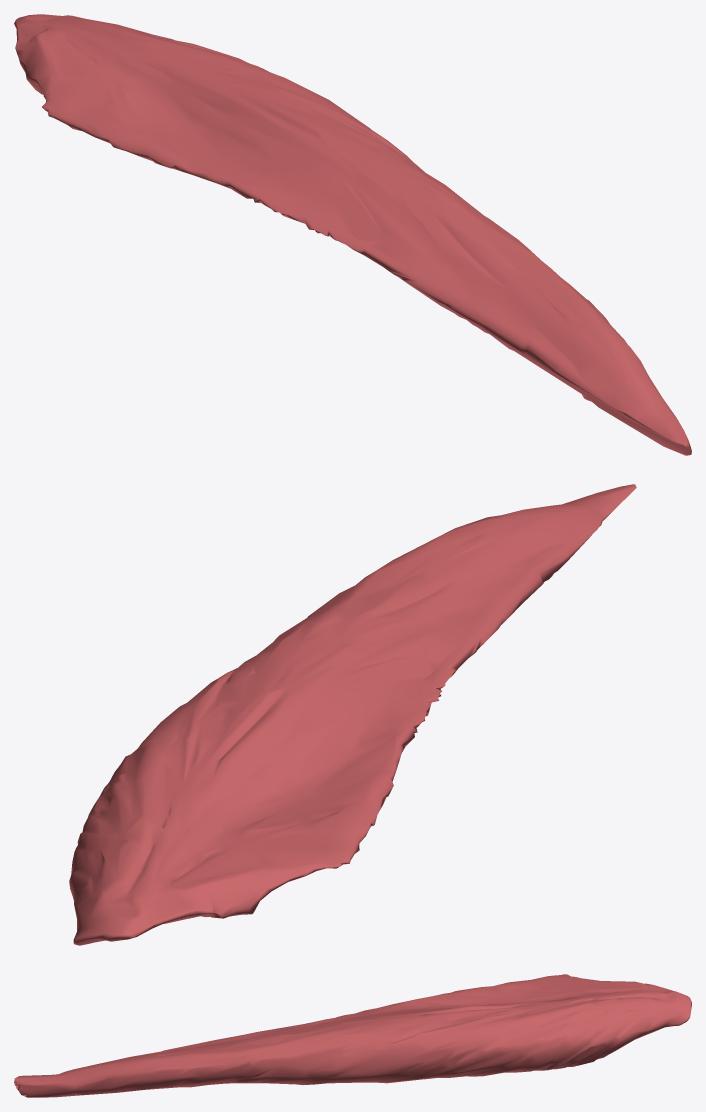
3 renders of one model, top to bottom at view 1: azimuth 30°, elevation 25°; view 2: azimuth 150°, elevation 25°; view 3: azimuth 270°, elevation 25°, orthographic. The views are drawn at different scales.
Visible parts, largest first — view 1: 右侧肱三头肌内侧头; view 2: 右侧肱三头肌内侧头; view 3: 右侧肱三头肌内侧头.
Part boxes in pixels (left/top/right/bottom): 右侧肱三头肌内侧头: left=14, top=14, right=691, bottom=455; 右侧肱三头肌内侧头: left=69, top=484, right=636, bottom=945; 右侧肱三头肌内侧头: left=14, top=974, right=691, bottom=1097.
Size of the model in its own units: 0.0918 by 0.0394 by 0.3453.
